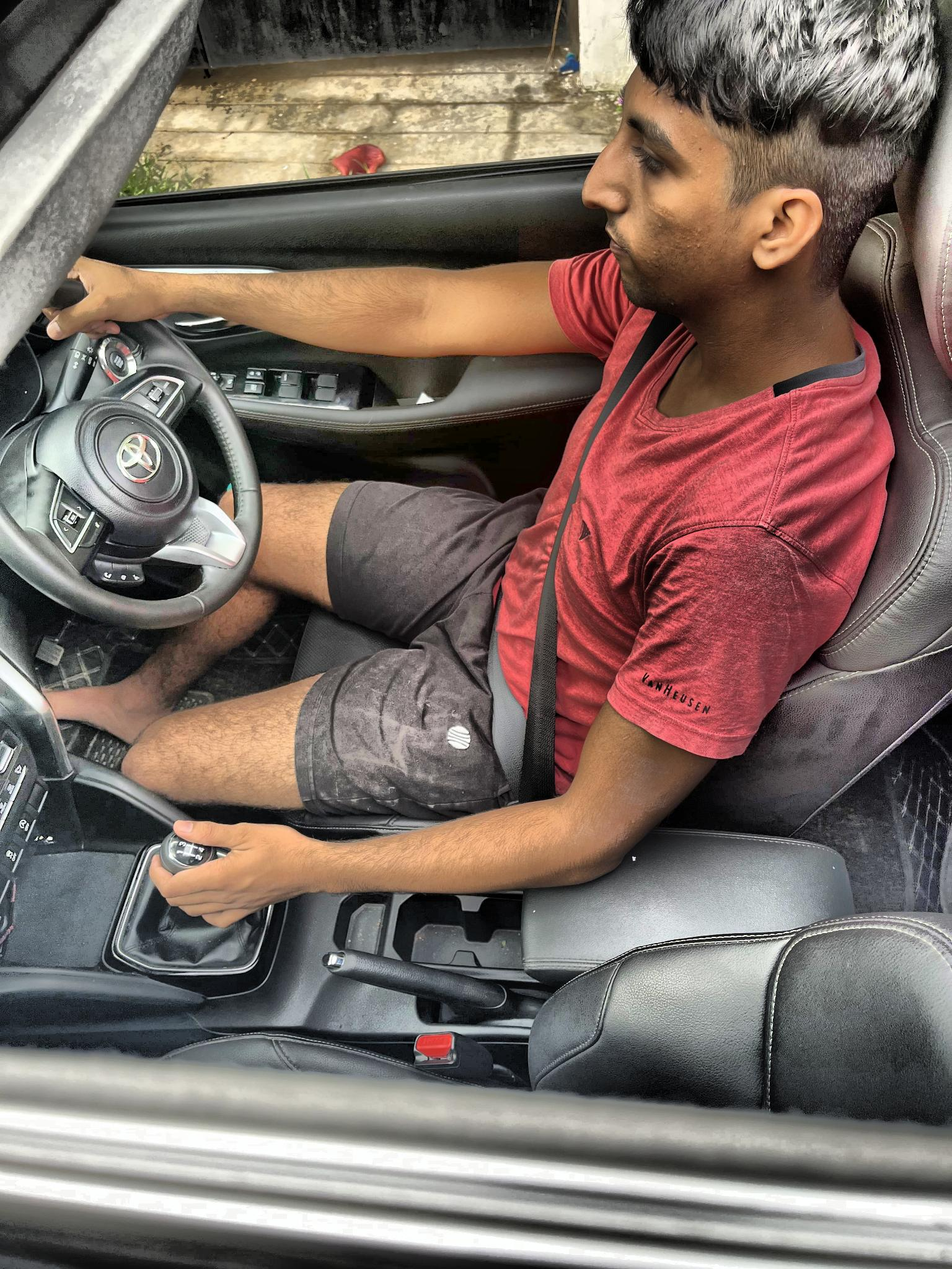seatbelt: (495, 278, 686, 816)
